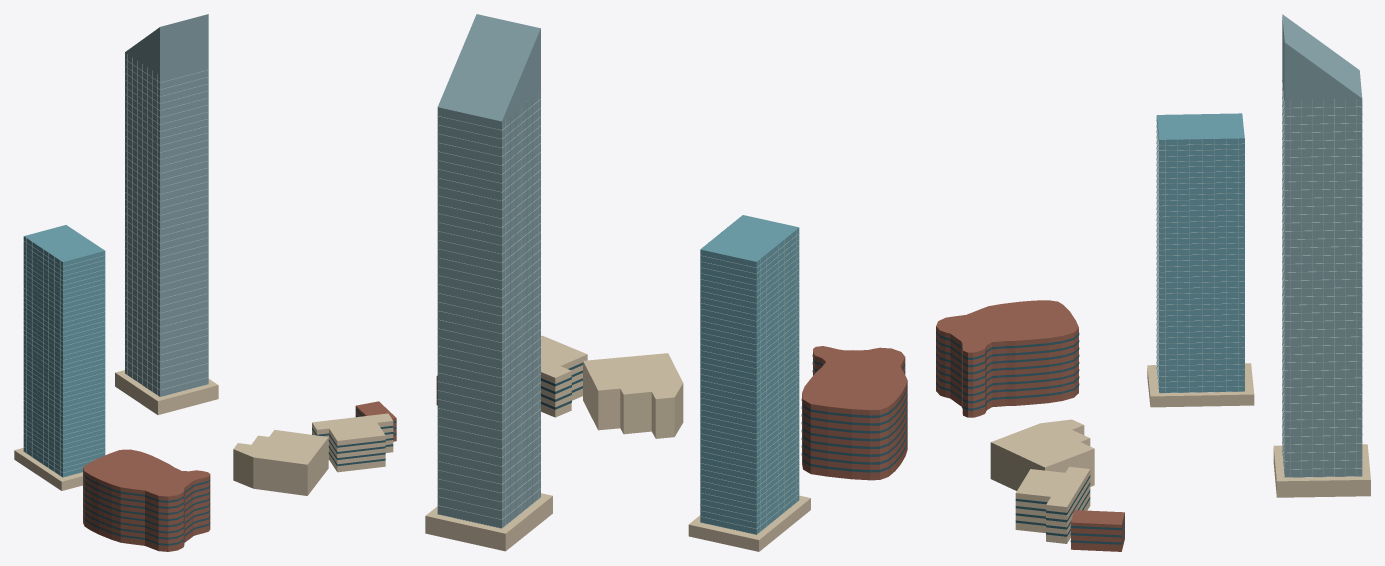
Rendered from city_2_-1.glb.
The picture shows the model from 3 angles, left to right: view 1: azimuth 30°, elevation 25°; view 2: azimuth 150°, elevation 25°; view 3: azimuth 270°, elevation 25°; orthographic projection. The views are drawn at different scales.
Visible parts, largest first — view 1: city_2_-1; view 2: city_2_-1; view 3: city_2_-1.
Part boxes in pixels (box(x1,y1,x2,y2)): city_2_-1: box(14, 14, 396, 551); city_2_-1: box(425, 14, 907, 551); city_2_-1: box(936, 14, 1370, 551).
Bounding box in the file's own units: 222 × 250 × 218.
